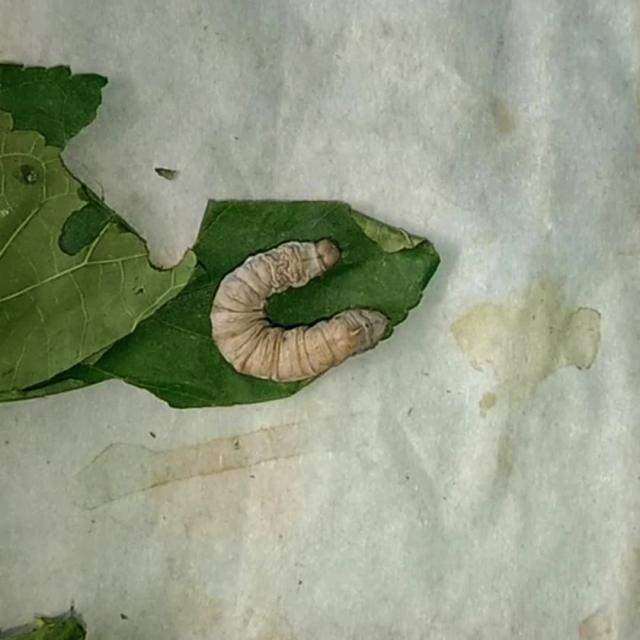Grasserie: (193, 196, 404, 399)
